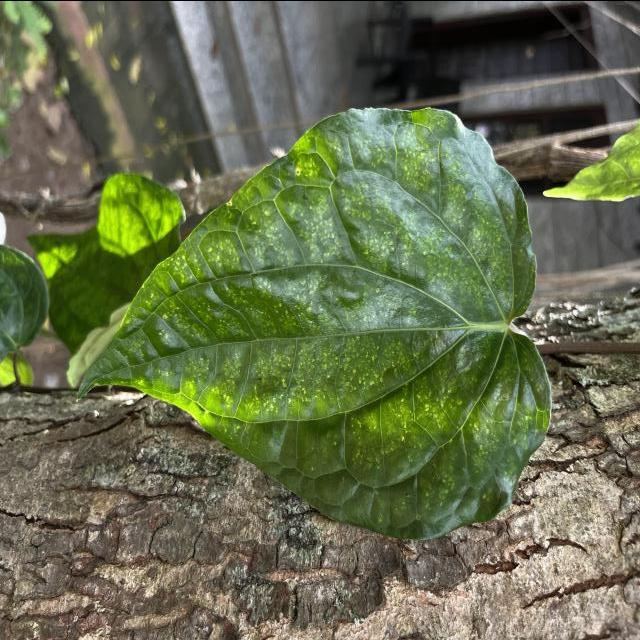Piper betle: (74, 100, 556, 546)
